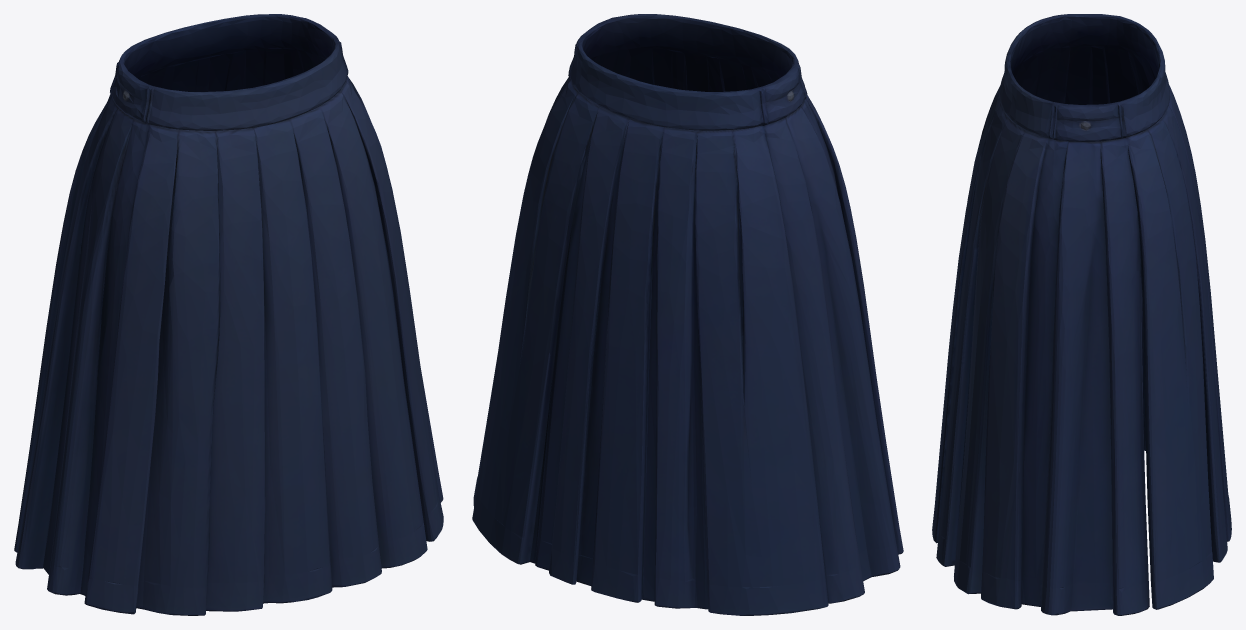
Rendered from school_skirt_v2_light.obj.
3 views of the same model, side by side, from view 1: azimuth 30°, elevation 25°; view 2: azimuth 150°, elevation 25°; view 3: azimuth 270°, elevation 25° (orthographic). The views are drawn at different scales.
Parts seen in each view (by area): view 1: node_0; view 2: node_0; view 3: node_0.
Part boxes in pixels (box(x1,y1,x2,y2)): node_0: box(14, 14, 443, 615); node_0: box(472, 14, 903, 615); node_0: box(932, 14, 1231, 615).
Size of the model in its own units: 78.35 by 93.68 by 53.75.
Materials: 1 (1 with a texture image).
